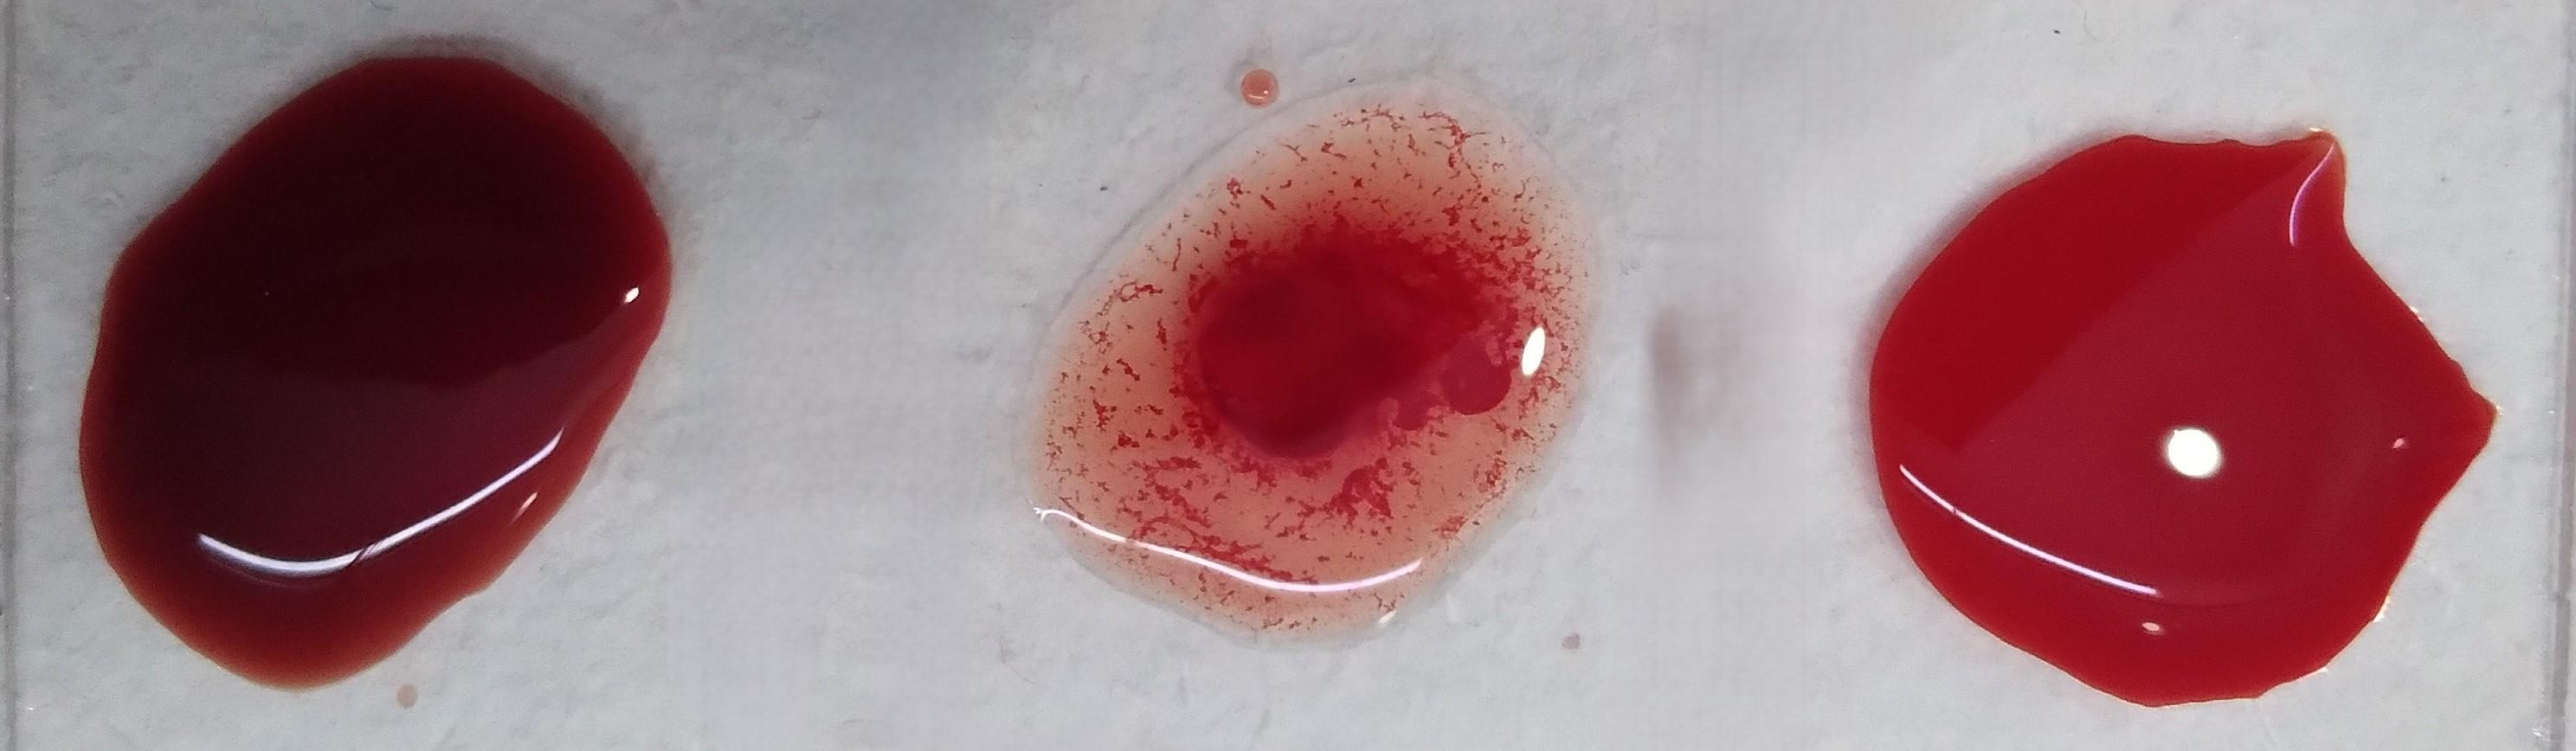D: (1042, 113, 1561, 621)
